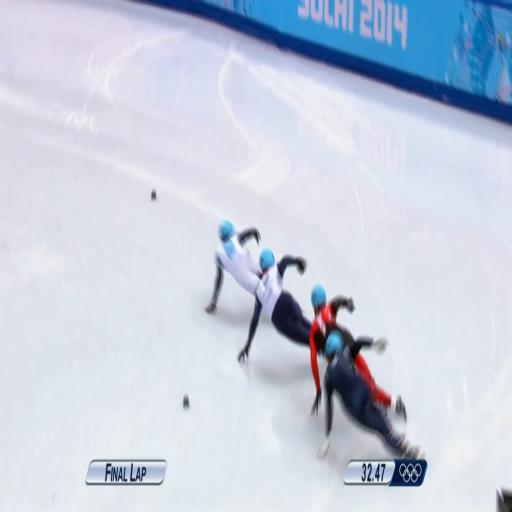Skater: (318, 331, 423, 458), (310, 285, 406, 420), (238, 249, 311, 362), (206, 221, 260, 312)
